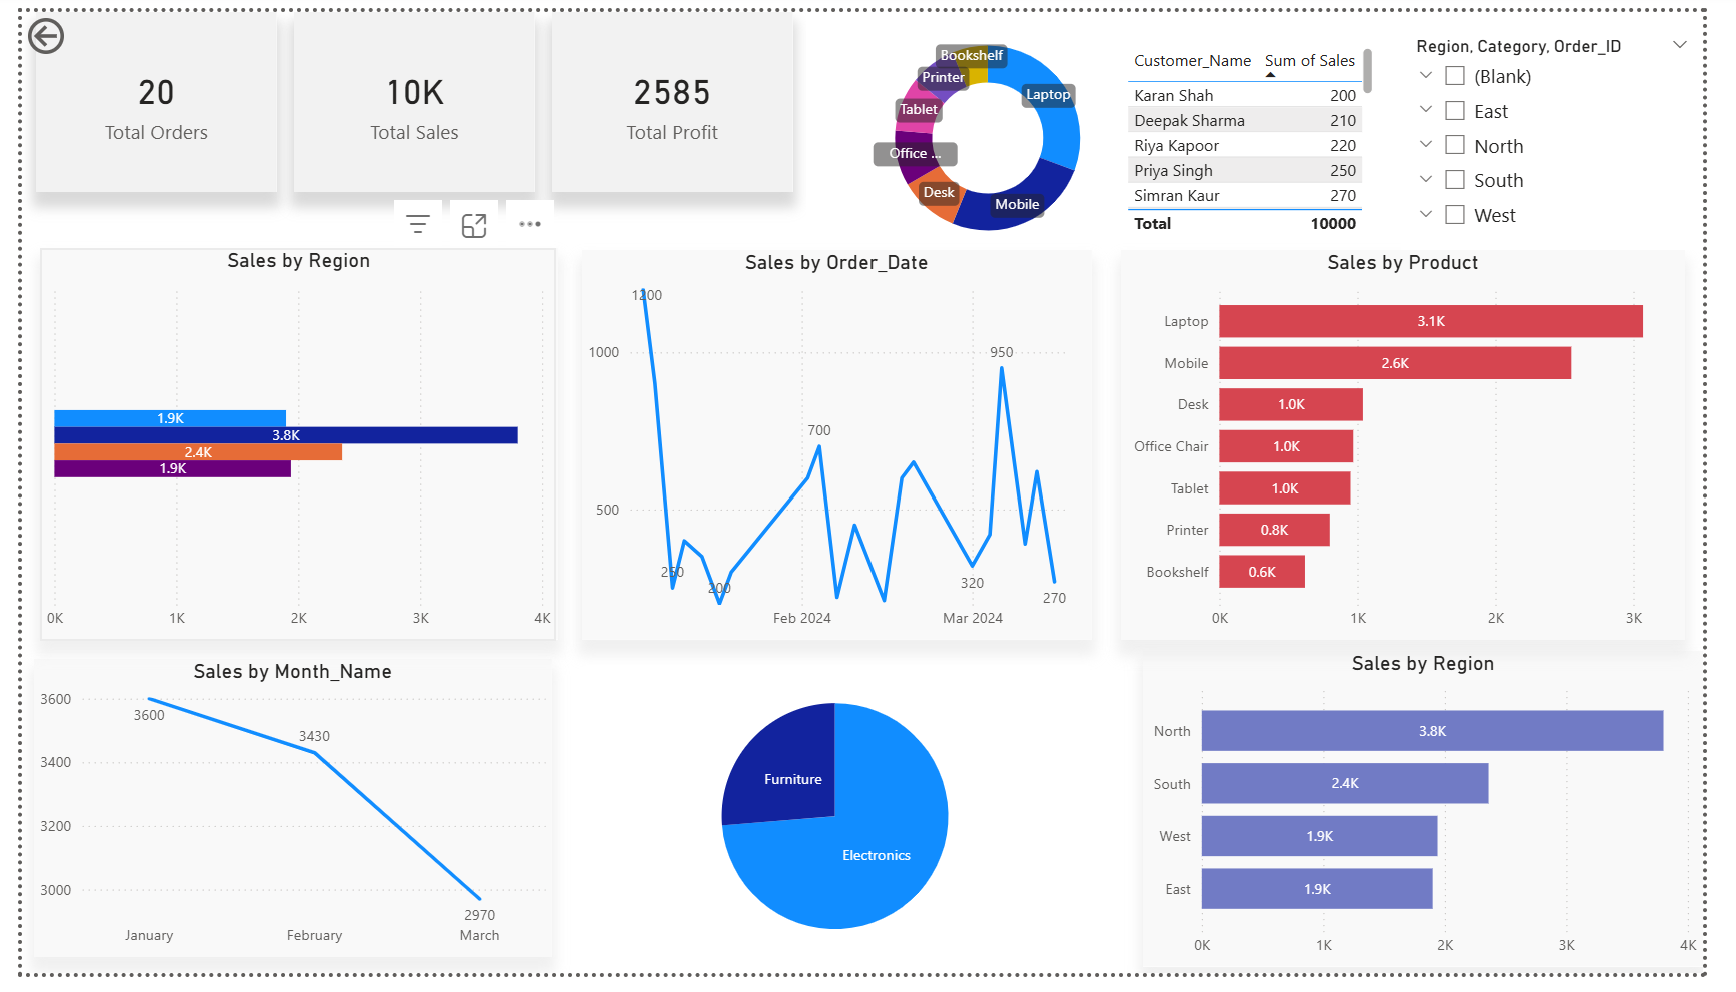

What the dashboard file says about the page in this screenshot:
{"tool":"powerbi","page":{"name":"Page 1","canvas":[1400,800],"ordinal":0},"visuals":[{"type":"card","fields":{"Values":["Sales_data.Total Orders"]},"box":[12,0,200.6,150],"z":0},{"type":"card","fields":{"Values":["Sales_data.Total Sales"]},"box":[226.3,0,200.6,150],"z":1000},{"type":"card","fields":{"Values":["Sales_data.Total Profit"]},"box":[442.2,0,200.6,150],"z":2000},{"type":"clusteredBarChart","title":" Sales by Region","fields":{"Series":["Sales_data.Region"],"Y":["Sum(Sales_data.Sales)"]},"box":[14.3,197.1,431.4,325.7],"z":3000},{"type":"donutChart","fields":{"Y":["Sum(Sales_data.Sales)"],"Category":["Sales_data.Product"]},"box":[652.9,0,301.4,210],"z":5000},{"type":"barChart","title":" Sales by Product","fields":{"Category":["Sales_data.Product"],"Y":["Sum(Sales_data.Sales)"]},"box":[914.3,198.6,470,324.3],"z":6000},{"type":"lineChart","title":" Sales by Order_Date","fields":{"Category":["Sales_data.Order_Date"],"Y":["Sum(Sales_data.Sales)"]},"box":[466,198,424,324],"z":7000},{"type":"slicer","fields":{"Values":["Sales_data.Region","Sales_data.Category","Sales_data.Order_ID"]},"box":[1148.3,6.7,251.7,191.7],"z":8000},{"type":"actionButton","box":[0,0,100,40],"z":9000},{"type":"tableEx","fields":{"Values":["Sales_data.Customer_Name","Sum(Sales_data.Sales)"]},"box":[915,16.7,215,173.3],"z":10000},{"type":"lineChart","title":" Sales by Month_Name","fields":{"Category":["Date_Table.Month_Name"],"Y":["Sum(Sales_data.Sales)"]},"box":[10,538.6,431.4,248.6],"z":11000},{"type":"barChart","title":"Sales by Region","fields":{"Category":["Sales_data.Region"],"Y":["Sum(Sales_data.Sales)"]},"box":[932.9,531.4,467.1,262.9],"z":12000},{"type":"pieChart","fields":{"Category":["Sales_data.Category"],"Y":["Sum(Sales_data.Sales)"]},"box":[465.7,545.7,424.3,248.6],"z":13000}]}

Visuals, with their boxes in screenshot pixels (x1, y1, x2, y2), scaled from the page's 1400x800 canvas onto the 1736x992 screenshot:
card - Sales_data.Total Orders: Rect(15, 0, 264, 186)
card - Sales_data.Total Sales: Rect(281, 0, 529, 186)
card - Sales_data.Total Profit: Rect(548, 0, 797, 186)
" Sales by Region" clusteredBarChart: Rect(18, 244, 553, 648)
donutChart - Sum(Sales_data.Sales) x Sales_data.Product: Rect(810, 0, 1183, 260)
" Sales by Product" barChart: Rect(1134, 246, 1717, 648)
" Sales by Order_Date" lineChart: Rect(578, 246, 1104, 647)
slicer - Sales_data.Region x Sales_data.Category: Rect(1424, 8, 1735, 246)
actionButton: Rect(0, 0, 124, 50)
tableEx - Sales_data.Customer_Name x Sum(Sales_data.Sales): Rect(1135, 21, 1401, 236)
" Sales by Month_Name" lineChart: Rect(12, 668, 547, 976)
"Sales by Region" barChart: Rect(1157, 659, 1735, 985)
pieChart - Sales_data.Category x Sum(Sales_data.Sales): Rect(577, 677, 1104, 985)
